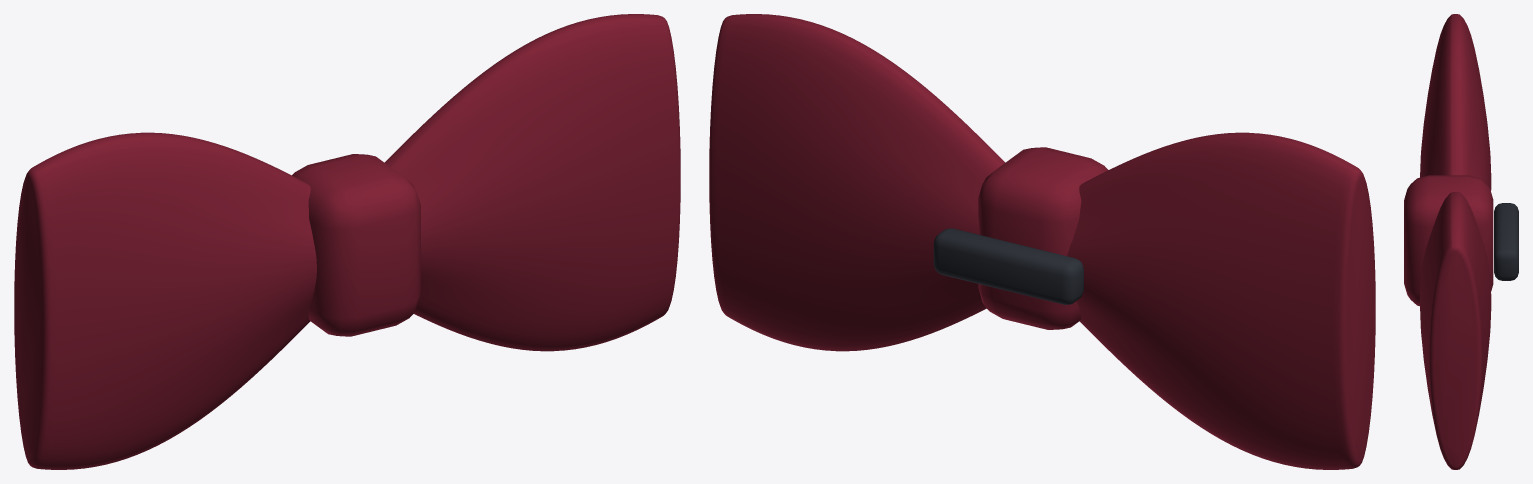
The model's file is BowTie.glb.
3 renders of one model, left to right at view 1: azimuth 30°, elevation 25°; view 2: azimuth 150°, elevation 25°; view 3: azimuth 270°, elevation 25°, orthographic. The views are drawn at different scales.
Parts seen in each view (by area): view 1: Satin bow wing, Satin bow wing.001, Wrapped center knot; view 2: Satin bow wing, Satin bow wing.001, Wrapped center knot, Rear clip; view 3: Satin bow wing.001, Satin bow wing, Wrapped center knot, Rear clip.
Part boxes in pixels (x1,y1,x2,y2): Satin bow wing: (14,132,316,469); Satin bow wing.001: (384,14,680,351); Wrapped center knot: (292,154,420,336); Satin bow wing: (1067,132,1375,469); Satin bow wing.001: (709,14,1005,351); Wrapped center knot: (978,147,1108,329); Rear clip: (933,228,1083,304); Satin bow wing.001: (1420,192,1491,469); Satin bow wing: (1420,14,1491,190); Wrapped center knot: (1404,175,1493,306); Rear clip: (1494,203,1518,280).
Size of the model in its own units: 0.404 by 0.1962 by 0.0835.
